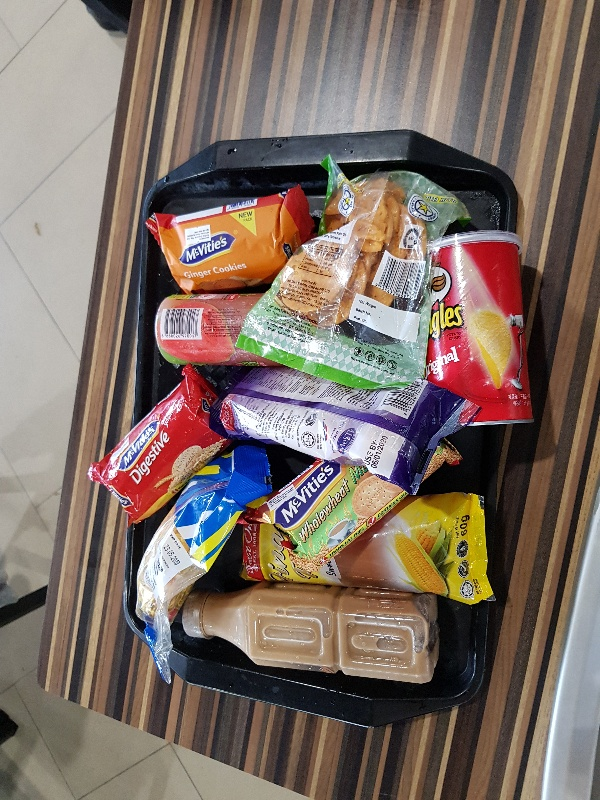Marigold Peel Fresh Pink Guava Juice Drink: (153, 292, 286, 364)
McVitie's Ginger Cookies: (143, 185, 316, 294)
McVitie's Wholewheat Marie: (243, 437, 461, 564)
Mcvitie's Digestive: (86, 363, 228, 524)
Mocha: (182, 582, 441, 684)
Pringles Original: (426, 227, 534, 426)
Star Tidbits 'O' Ring: (236, 153, 469, 387)
Star Tidbits Mixer: (136, 443, 272, 684)
Tinges Roll Chocolate: (217, 363, 484, 495)
Tinges Roll Sweet Corn: (241, 491, 497, 604)
